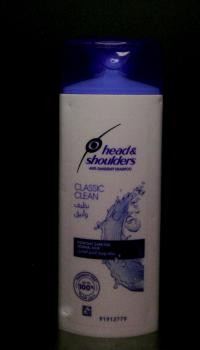dent_marginal: (61, 300, 76, 326), (62, 96, 78, 115), (150, 97, 166, 111)
